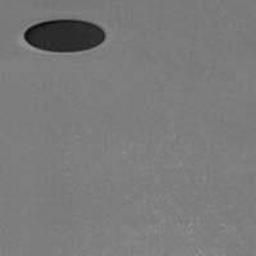Punching: (22, 18, 106, 54)
